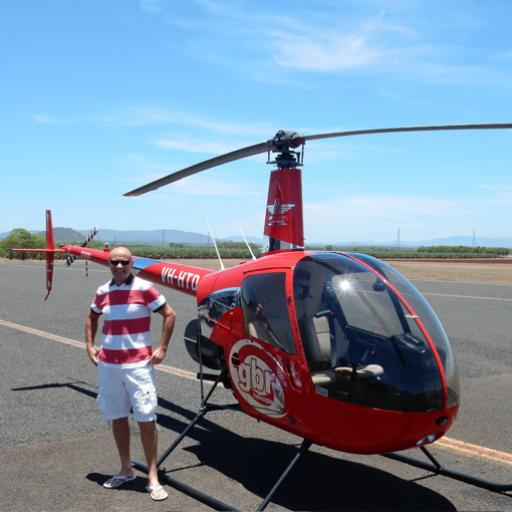helicopter: (14, 124, 506, 509)
